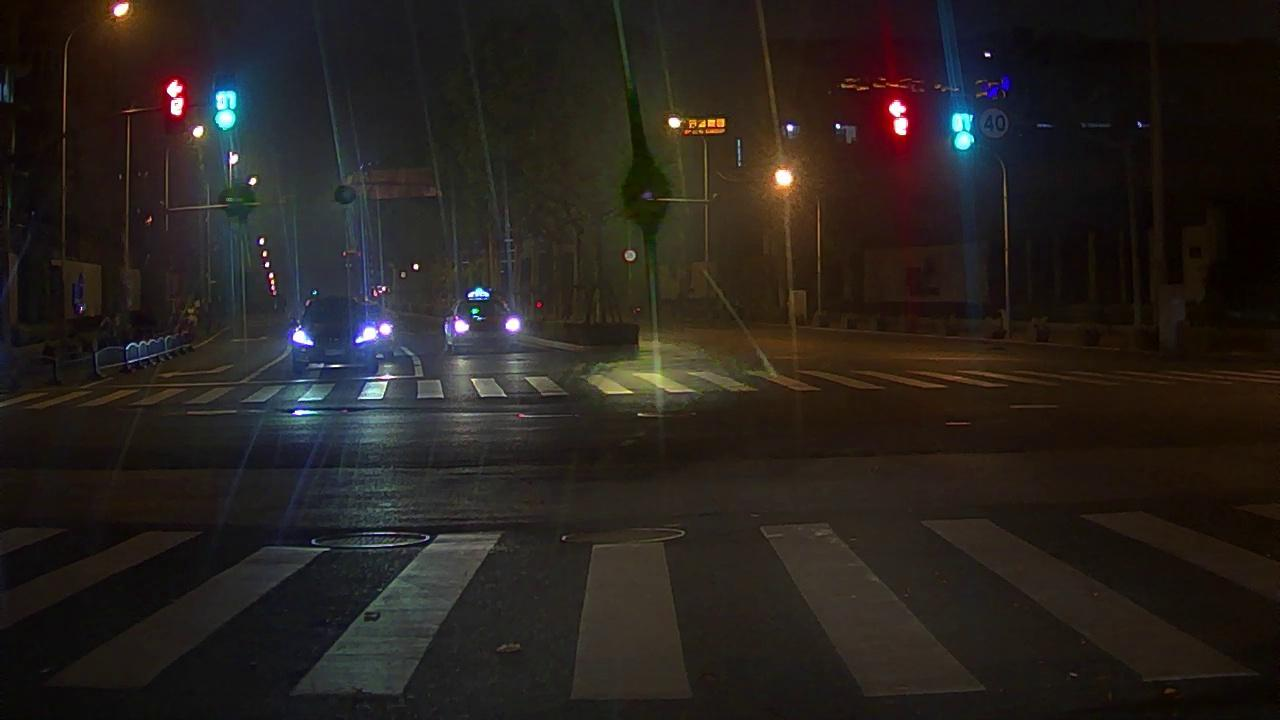traffic_light: (162, 72, 187, 132), (216, 72, 240, 134), (950, 96, 975, 153), (888, 89, 910, 149)
